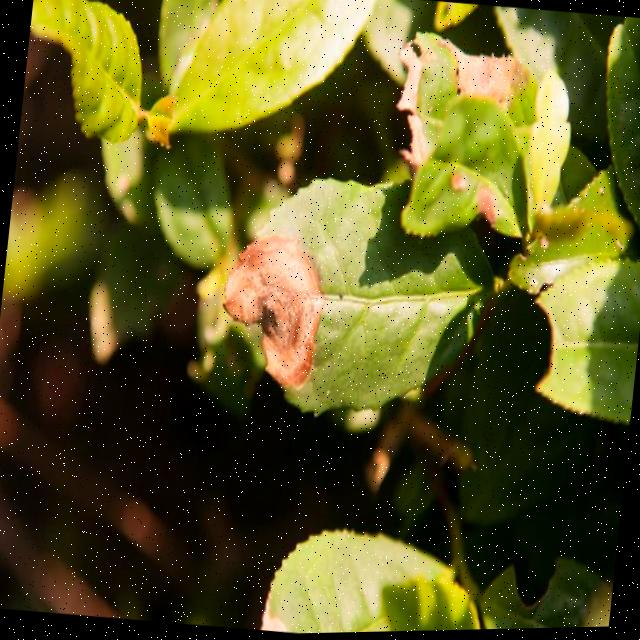Tea cloud leaf blight: (213, 229, 330, 397)
